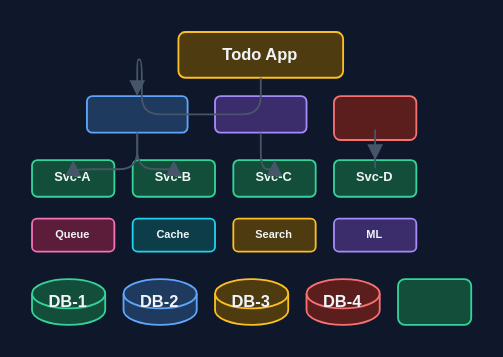
The diagram is 503 pixels wide and 357 high, and some of its shapes have lost their labels. The shapes that lost their labels are listed below. From the top down, each one's centre as x and y in pixels, then its label:
At pixel 136 113: "API GW".
At pixel 260 113: "Auth".
At pixel 374 117: "Rate Limit".
At pixel 433 301: "K8s".
